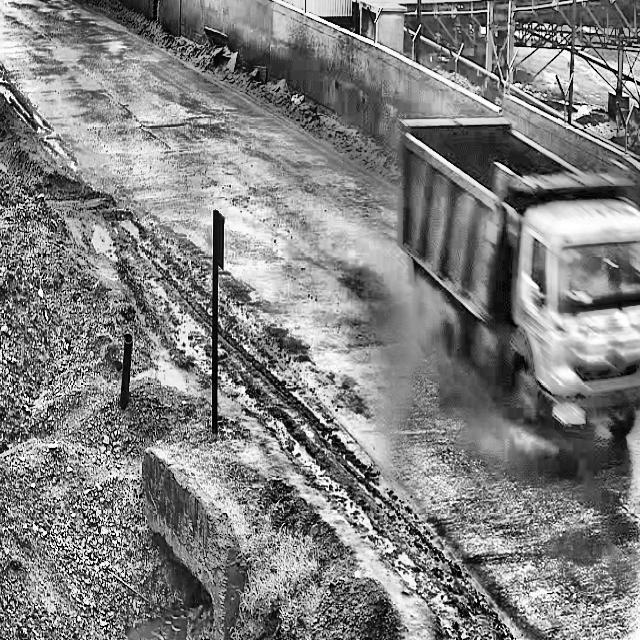dump_truck: (401, 89, 640, 464)
